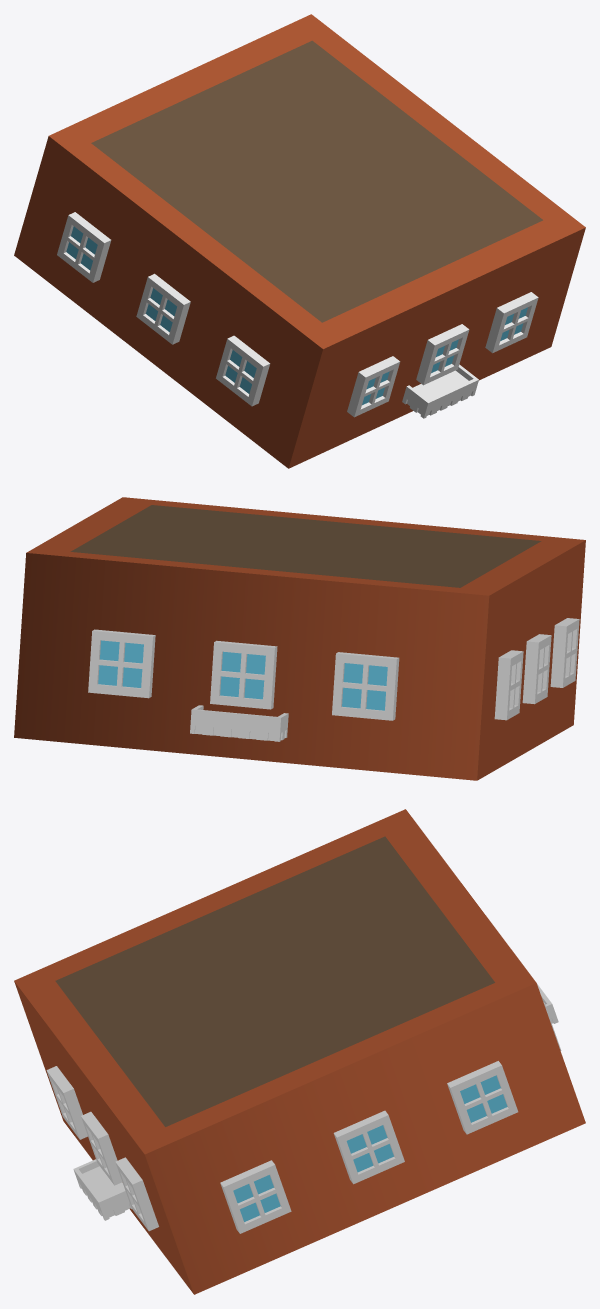
The model's file is VersionBCycle.fbx.
3 views of the same model, one above another, from view 1: azimuth 30°, elevation 25°; view 2: azimuth 150°, elevation 25°; view 3: azimuth 270°, elevation 25° (orthographic). The views are drawn at different scales.
Visible parts, largest first — view 1: BaseHouse, Window, Window2, Window1, Flowerbed1, Window7, Window6, Window8; view 2: BaseHouse, Window5, Window4, Window3, Flowerbed2, Window, Window1, Window2; view 3: BaseHouse, Window9, Window11, Window10, Flowerbed1, Window7, Window6, Window8.
Boxes of the visible parts, x1,y1,x2,y2 form: BaseHouse: (14, 14, 585, 468); Window: (136, 273, 190, 344); Window2: (216, 335, 270, 406); Window1: (57, 212, 111, 282); Flowerbed1: (402, 364, 478, 418); Window7: (485, 292, 538, 353); Window6: (416, 324, 469, 385); Window8: (347, 356, 400, 417); BaseHouse: (14, 497, 585, 780); Window5: (332, 652, 399, 720); Window4: (88, 629, 155, 698); Window3: (210, 640, 277, 709); Flowerbed2: (190, 705, 288, 741); Window: (522, 634, 551, 704); Window1: (494, 650, 523, 720); Window2: (550, 618, 579, 687); BaseHouse: (14, 809, 585, 1294); Window9: (220, 1160, 291, 1233); Window11: (333, 1110, 404, 1184); Window10: (447, 1061, 518, 1134); Flowerbed1: (73, 1159, 131, 1220); Window7: (115, 1157, 158, 1231); Window6: (81, 1111, 122, 1185); Window8: (46, 1066, 87, 1139).
Bounding box in the file's own units: 12.14 × 6.46 × 12.59.
